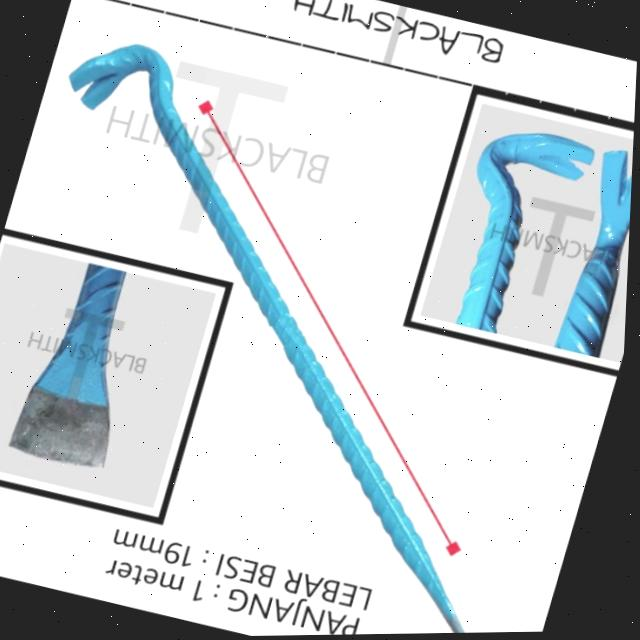crow bar: (64, 34, 476, 635)
